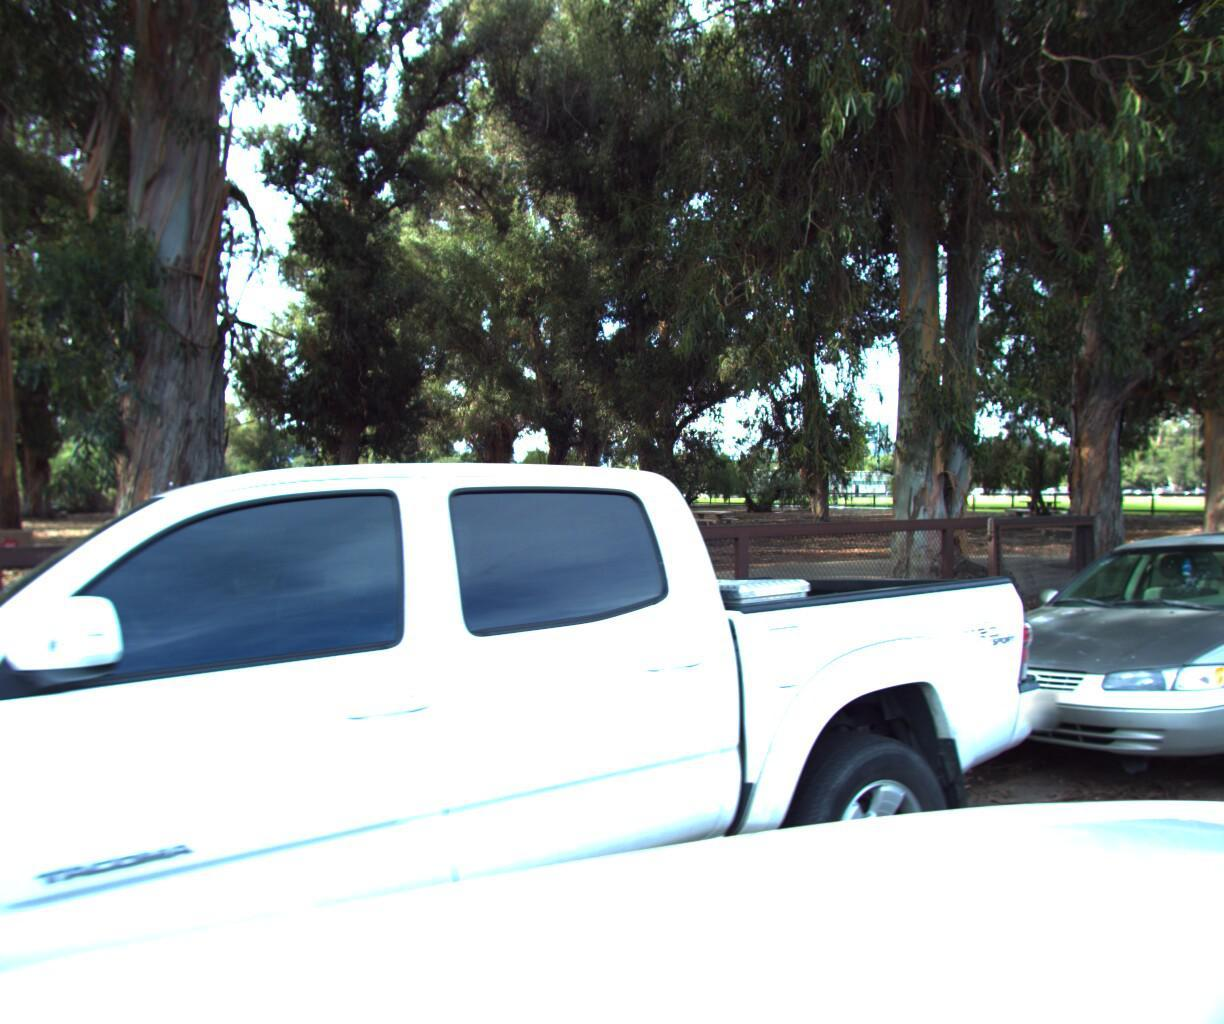car: (0, 379, 1103, 1024), (908, 511, 1224, 855)
